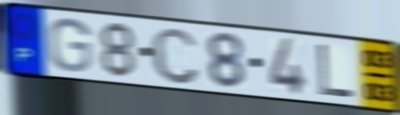4: (268, 37, 309, 97)
8: (204, 31, 247, 90), (97, 20, 139, 80)
C: (149, 25, 202, 86)
G: (46, 16, 94, 74)
L: (316, 41, 357, 100)
